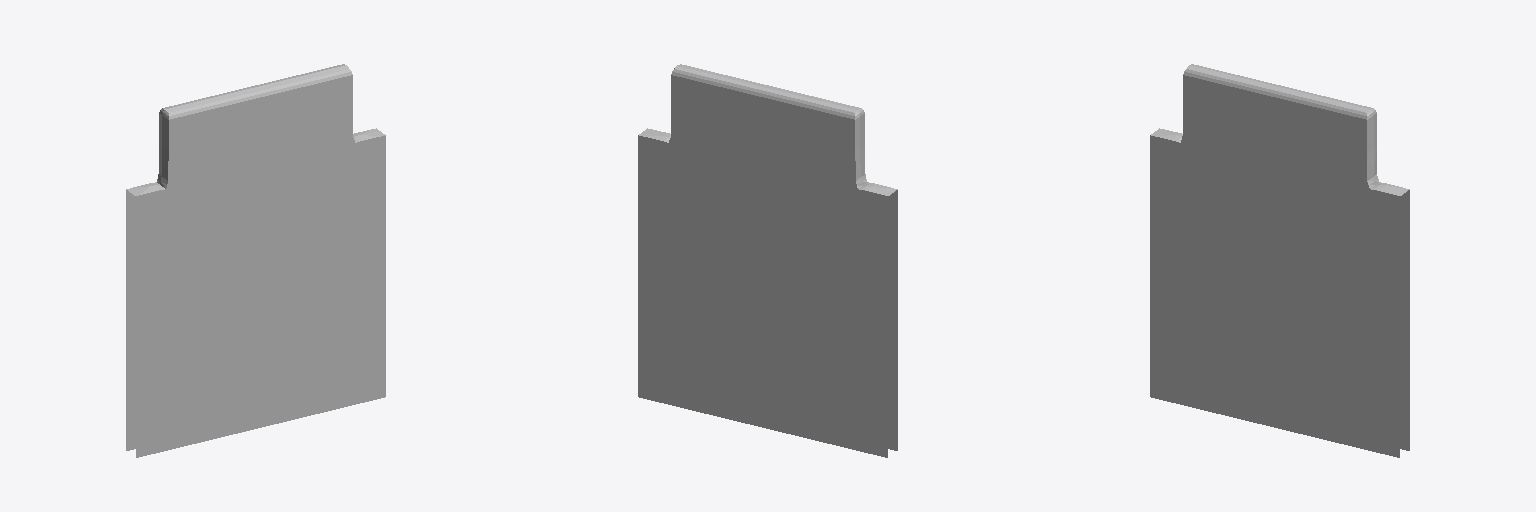
The model's file is toplining_v1.obj.
The picture shows the model from 3 angles: view 1: azimuth 30°, elevation 25°; view 2: azimuth 150°, elevation 25°; view 3: azimuth 330°, elevation 25°; orthographic projection.
Visible parts, largest first — view 1: Top_Lining; view 2: Top_Lining; view 3: Top_Lining.
Part boxes in pixels (x1,y1,x2,y2): Top_Lining: (126,64,385,457); Top_Lining: (638,64,897,457); Top_Lining: (1150,64,1409,457).
Bounding box in the file's own units: 3 × 3.86 × 0.1986.